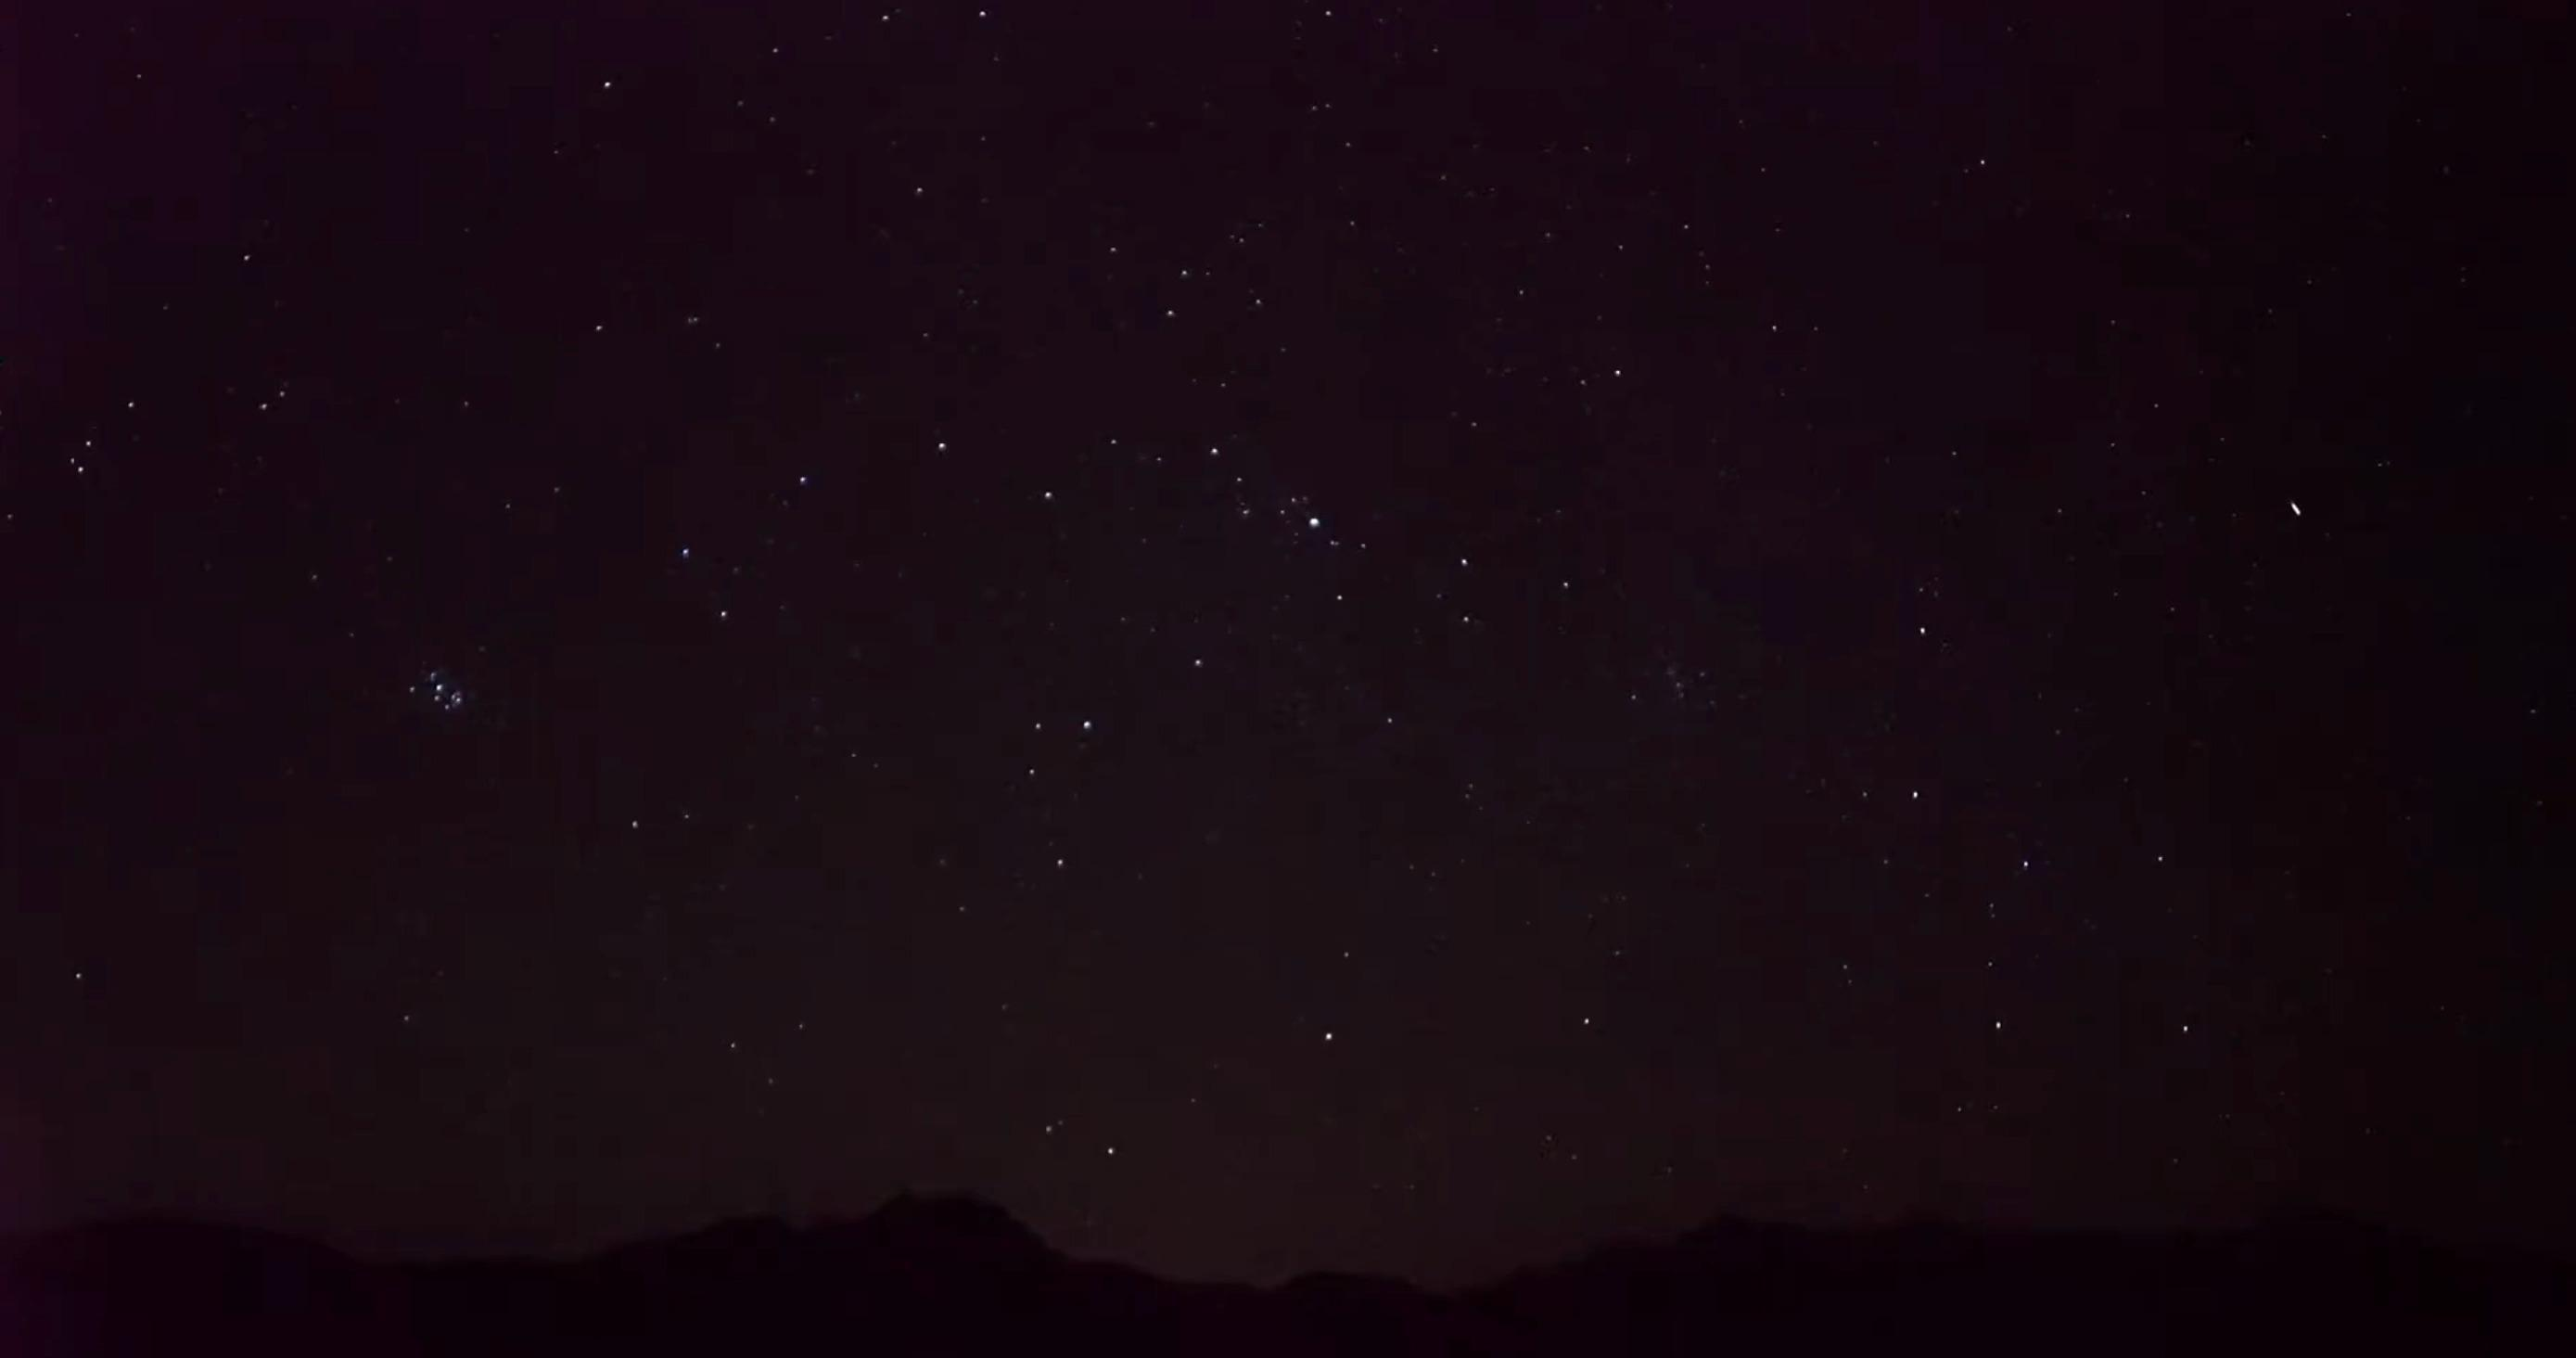meteorite: (2281, 489, 2314, 540)
